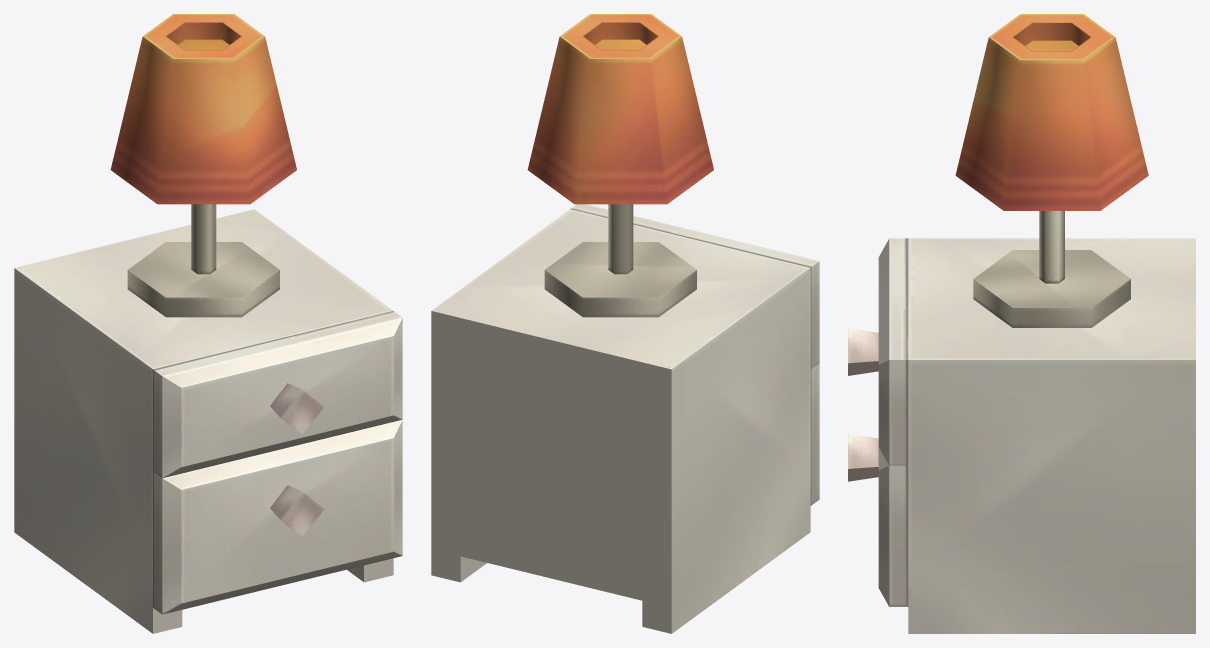
File: BedTumb 1.fbx
The picture shows the model from 3 angles, left to right: view 1: azimuth 30°, elevation 25°; view 2: azimuth 150°, elevation 25°; view 3: azimuth 270°, elevation 25°; orthographic projection. The views are drawn at different scales.
Visible parts, largest first — view 1: BedTumb 1; view 2: BedTumb 1; view 3: BedTumb 1.
Part boxes in pixels (x1,y1,x2,y2): BedTumb 1: (14,14,402,633); BedTumb 1: (431,14,819,633); BedTumb 1: (848,14,1195,633).
Bounding box in the file's own units: 0.7025 × 1.44 × 0.8499.
2 materials, 2 textured.
